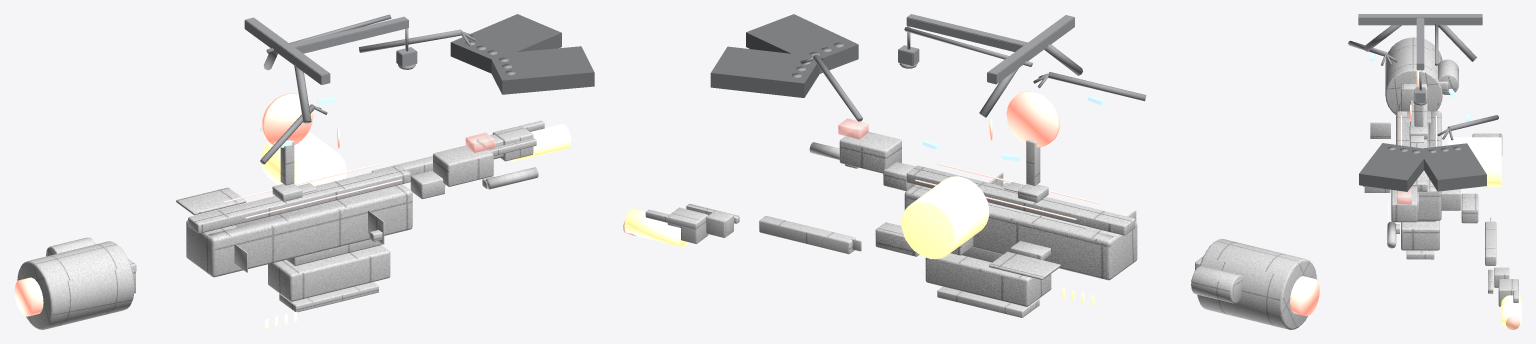
The model's file is var_ashline_rig_reaver_hook_v01.glb.
3 views of the same model, side by side, from view 1: azimuth 30°, elevation 25°; view 2: azimuth 150°, elevation 25°; view 3: azimuth 270°, elevation 25° (orthographic). The views are drawn at different scales.
Parts seen in each view (by area): view 1: LOD0_Merged_Material_Hull, LOD0_Merged_Material_Mechanical, VAR_REAVOR_prowplate_1, VAR_REAVOR_prowplate_0, LOD0_HOOK_TETHER_SPOOL, LOD0_Merged_Material_Cyan, VAR_REAVOR_gantry_header, VAR_REAVOR_crane_jib, LOD2_Merged_Material_Cyan, LOD0_HOOK_DRIVE_CORE, LOD1_Merged_Material_Hull, VAR_REAVOR_grapple_arm_port (+9 smaller); view 2: LOD0_Merged_Material_Hull, LOD0_Merged_Material_Mechanical, LOD0_HOOK_TETHER_SPOOL, VAR_REAVOR_prowplate_0, VAR_REAVOR_prowplate_1, LOD0_Merged_Material_Cyan, VAR_REAVOR_gantry_header, VAR_REAVOR_crane_jib, LOD0_HOOK_DRIVE_CORE, LOD2_Merged_Material_Cyan, LOD1_Merged_Material_Hull, VAR_REAVOR_grapple_arm_stbd (+6 smaller); view 3: LOD0_Merged_Material_Hull, LOD0_Merged_Material_Mechanical, VAR_REAVOR_prowplate_0, VAR_REAVOR_prowplate_1, LOD0_HOOK_TETHER_SPOOL, VAR_REAVOR_gantry_header, LOD1_Merged_Material_Mechanical, VAR_REAVOR_crane_jib, LOD2_HOOK_TETHER_SPOOL, LOD1_Merged_Material_Hull, VAR_REAVOR_gantry_leg_p, LOD0_Merged_Material_Glass (+12 smaller).
Boxes of the visible parts, box(x1,y1,x2,y2) form: LOD0_Merged_Material_Hull: box(128, 143, 493, 301); LOD0_Merged_Material_Mechanical: box(17, 120, 544, 329); VAR_REAVOR_prowplate_1: box(489, 46, 594, 94); VAR_REAVOR_prowplate_0: box(450, 14, 561, 73); LOD0_HOOK_TETHER_SPOOL: box(262, 124, 571, 186); LOD0_Merged_Material_Cyan: box(224, 93, 402, 218); VAR_REAVOR_gantry_header: box(244, 17, 330, 84); VAR_REAVOR_crane_jib: box(291, 16, 408, 53); LOD2_Merged_Material_Cyan: box(261, 93, 313, 147); LOD0_HOOK_DRIVE_CORE: box(14, 277, 43, 316); LOD1_Merged_Material_Hull: box(131, 145, 493, 301); VAR_REAVOR_grapple_arm_port: box(359, 29, 461, 52); LOD0_Merged_Material_Hull: box(839, 129, 1202, 306); LOD0_Merged_Material_Mechanical: box(645, 139, 1316, 329); LOD0_HOOK_TETHER_SPOOL: box(624, 176, 989, 258); VAR_REAVOR_prowplate_0: box(710, 46, 820, 97); VAR_REAVOR_prowplate_1: box(746, 14, 858, 73); LOD0_Merged_Material_Cyan: box(915, 91, 1098, 219); VAR_REAVOR_gantry_header: box(987, 15, 1074, 84); VAR_REAVOR_crane_jib: box(906, 14, 1027, 51); LOD0_HOOK_DRIVE_CORE: box(1290, 276, 1319, 316); LOD2_Merged_Material_Cyan: box(1006, 91, 1060, 147); LOD1_Merged_Material_Hull: box(840, 132, 1199, 306); VAR_REAVOR_grapple_arm_stbd: box(1048, 72, 1146, 101); LOD0_Merged_Material_Hull: box(1391, 81, 1502, 250); LOD0_Merged_Material_Mechanical: box(1363, 37, 1518, 306); VAR_REAVOR_prowplate_0: box(1418, 143, 1486, 191); VAR_REAVOR_prowplate_1: box(1359, 143, 1423, 191); LOD0_HOOK_TETHER_SPOOL: box(1447, 137, 1521, 328); VAR_REAVOR_gantry_header: box(1358, 14, 1482, 25); LOD1_Merged_Material_Mechanical: box(1363, 37, 1518, 302); VAR_REAVOR_crane_jib: box(1416, 18, 1424, 70); LOD2_HOOK_TETHER_SPOOL: box(1447, 137, 1521, 327); LOD1_Merged_Material_Hull: box(1391, 82, 1478, 250); VAR_REAVOR_gantry_leg_p: box(1438, 24, 1476, 61); LOD0_Merged_Material_Glass: box(1397, 189, 1519, 329).
Size of what is drawn, in the model's own units: 17.72 by 7.31 by 5.45.
8 materials, 5 textured.
